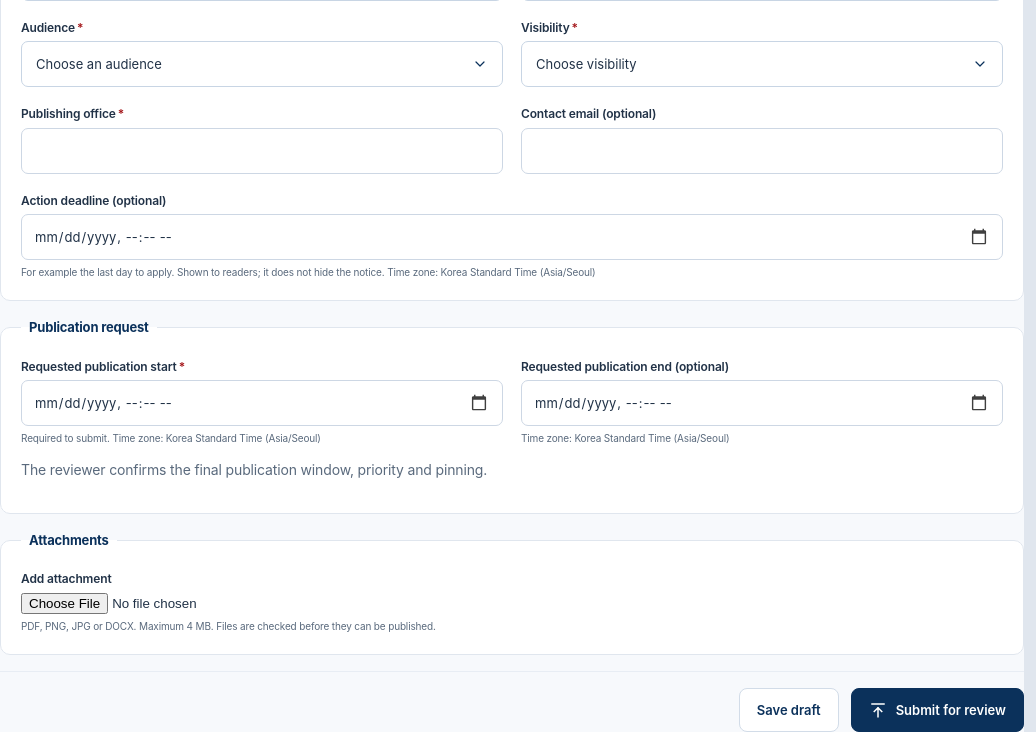
Test: FE NoticeForm › FE-2 save draft needs only a title
Later steps or results of the test are not shown.
(page scrolled)
Click the button "Save draft". click: (789,710)
box: [739,688,839,731]
(page scrolled)
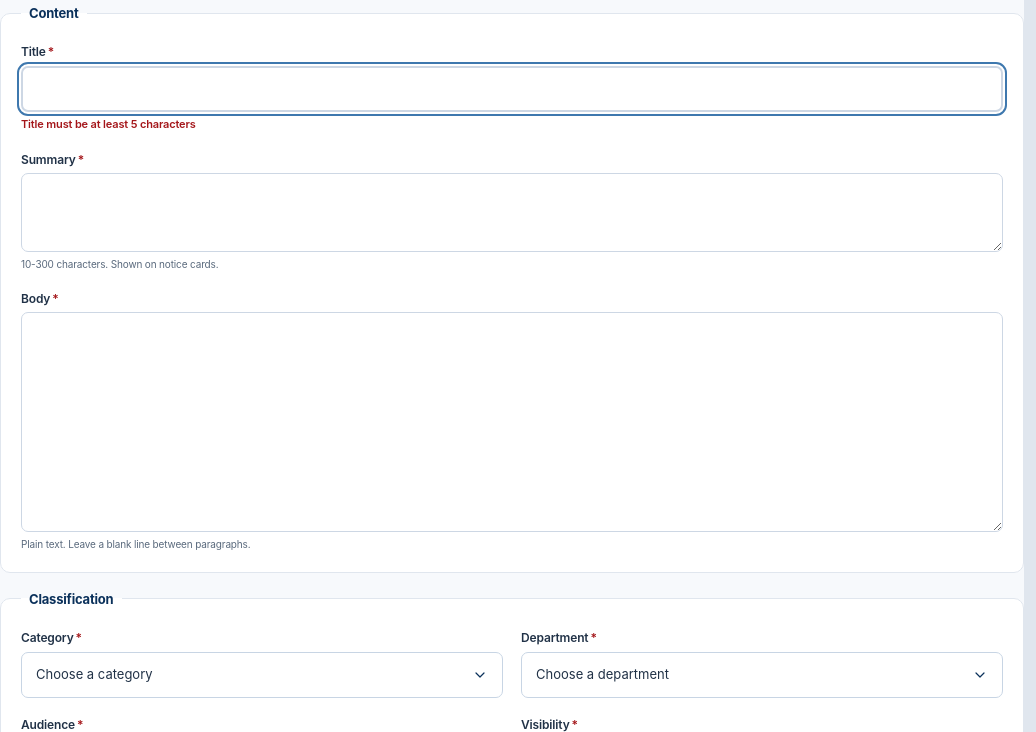
Expected: the text "Title must be at least 5 characters" is shown, [21,117,196,131]
